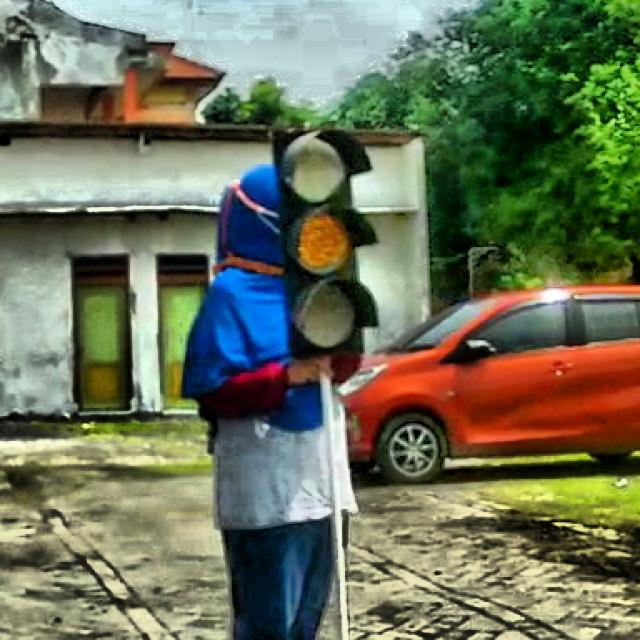yellow: (270, 124, 378, 358)
